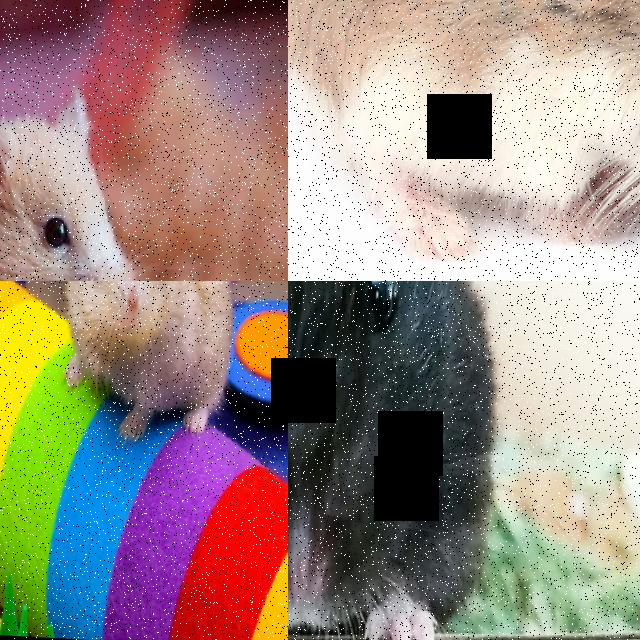hamster: (288, 0, 640, 281), (288, 281, 513, 640), (50, 281, 240, 450), (0, 79, 147, 281)
